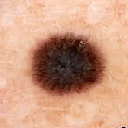Melanoma: (32, 33, 105, 94)
